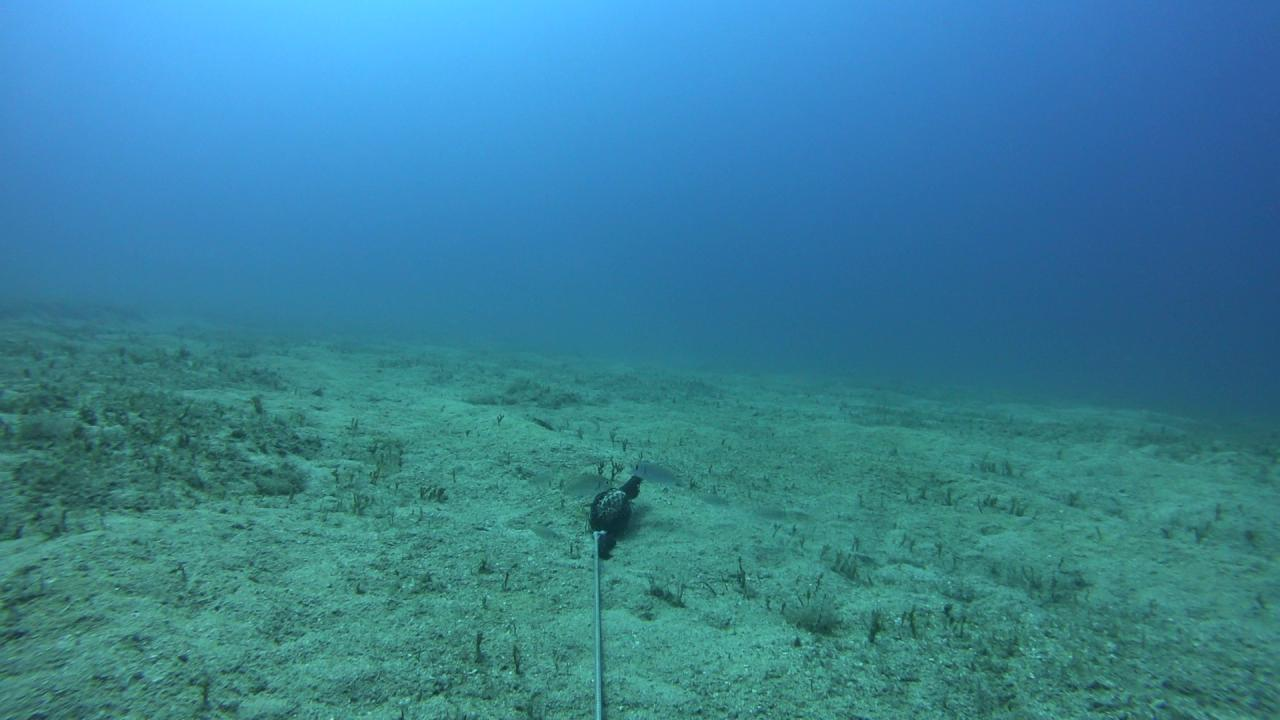pagellus: (631, 461, 687, 488), (562, 477, 620, 500), (692, 491, 735, 509), (522, 524, 562, 540)
